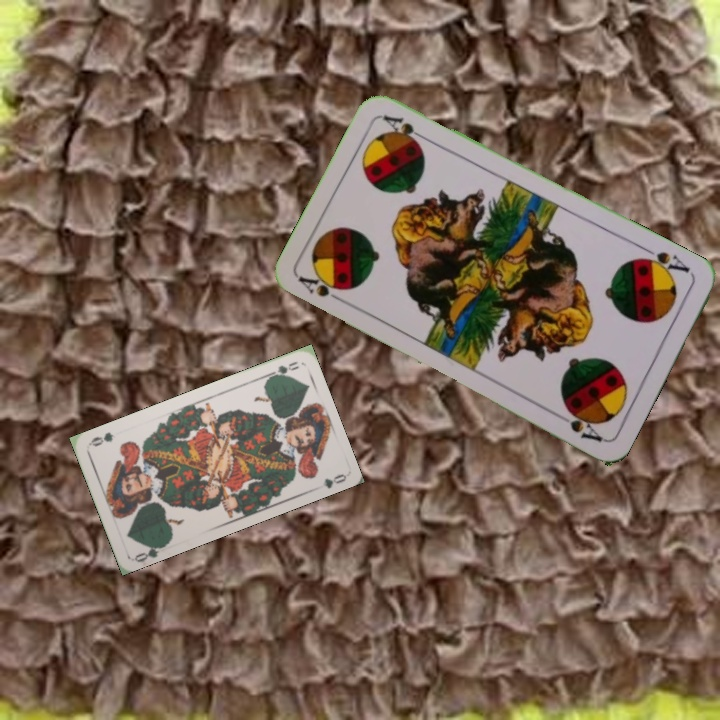GO: (262, 357, 302, 382), (131, 540, 170, 565)
SA: (634, 243, 693, 280), (295, 272, 350, 307)
